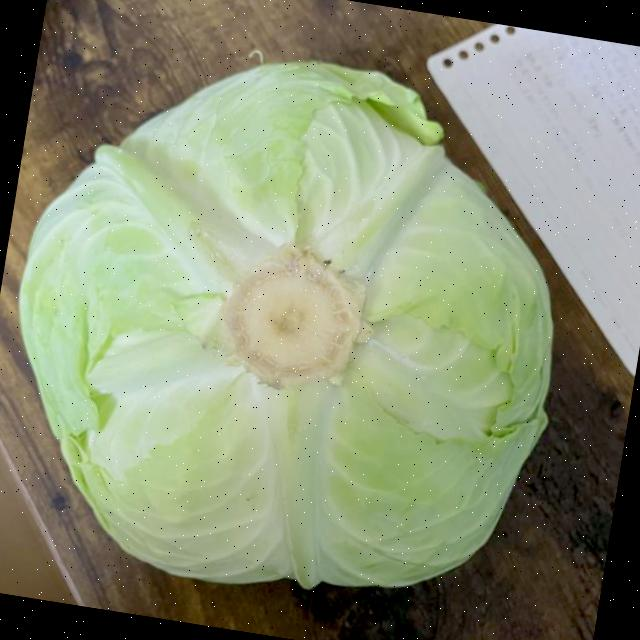cabbage: (0, 17, 599, 638)
